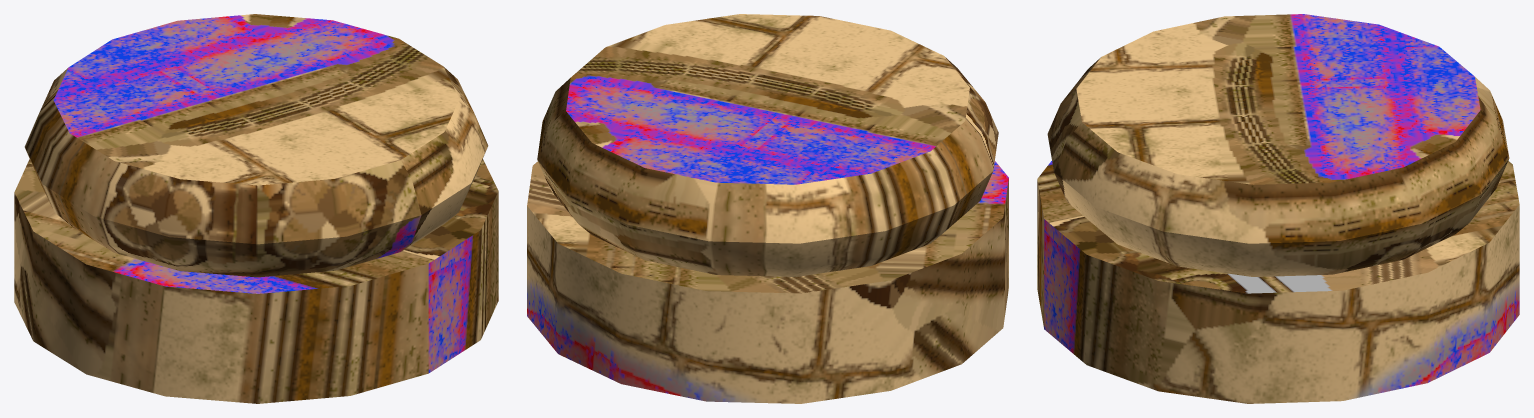
The picture shows the model from 3 angles, left to right: view 1: azimuth 30°, elevation 25°; view 2: azimuth 150°, elevation 25°; view 3: azimuth 270°, elevation 25°; orthographic projection.
Visible parts, largest first — view 1: SM_Base1; view 2: SM_Base1; view 3: SM_Base1.
Part boxes in pixels (x1,y1,x2,y2): SM_Base1: [14, 14, 498, 403]; SM_Base1: [527, 14, 1008, 403]; SM_Base1: [1037, 14, 1519, 403].
Bounding box in the file's own units: 108 × 50 × 108.
